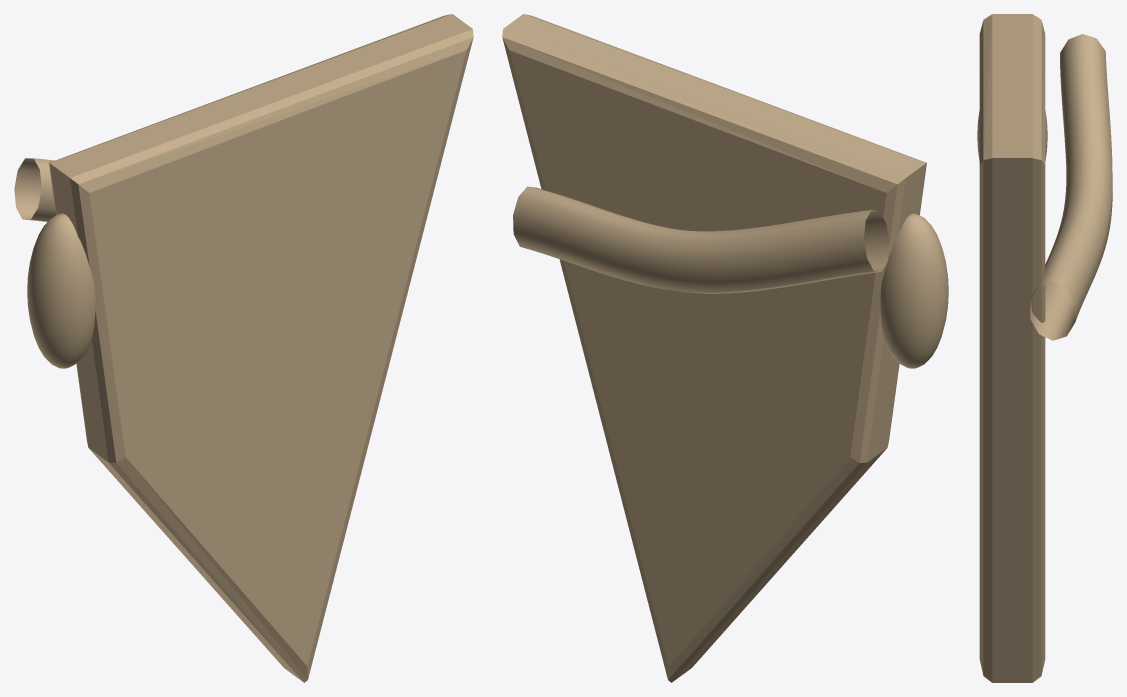
Rendered from right_scapula.glb.
3 views of the same model, side by side, from view 1: azimuth 30°, elevation 25°; view 2: azimuth 150°, elevation 25°; view 3: azimuth 270°, elevation 25° (orthographic).
Visible parts, largest first — view 1: right_scapula:blade, right_scapula:glenoid, right_scapula:spine; view 2: right_scapula:blade, right_scapula:spine, right_scapula:glenoid; view 3: right_scapula:blade, right_scapula:spine, right_scapula:glenoid.
Boxes of the visible parts, <box> form: right_scapula:blade: <box>49,14,473,682</box>; right_scapula:glenoid: <box>27,213,95,368</box>; right_scapula:spine: <box>14,158,55,221</box>; right_scapula:blade: <box>502,14,926,682</box>; right_scapula:spine: <box>513,186,889,293</box>; right_scapula:glenoid: <box>880,213,948,368</box>; right_scapula:blade: <box>979,14,1045,682</box>; right_scapula:spine: <box>1030,34,1112,340</box>; right_scapula:glenoid: <box>977,110,1047,160</box>.
Bounding box in the file's own units: 0.558 × 0.7584 × 0.1536.
